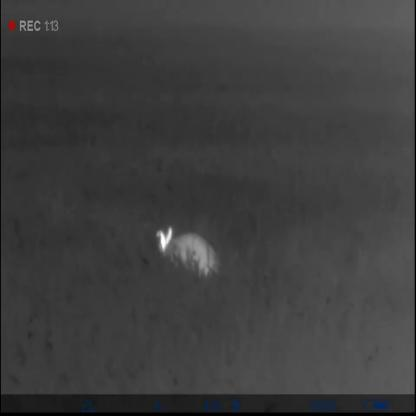rehkitze: (150, 224, 220, 280)
